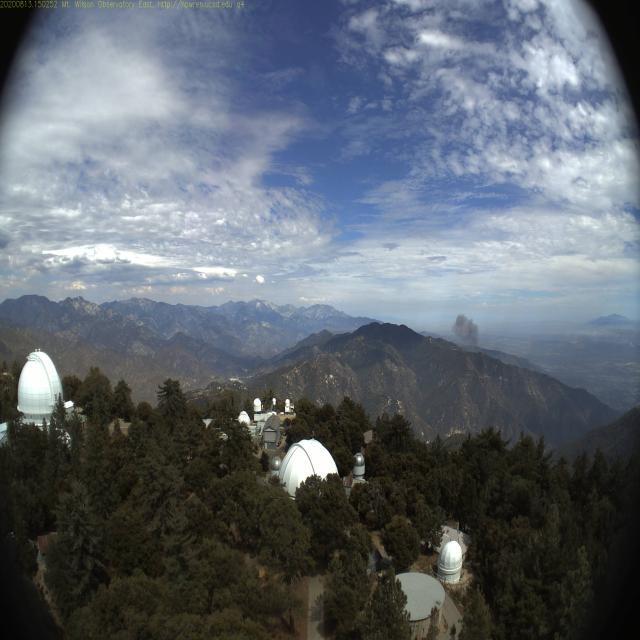smoke: (452, 308, 488, 354)
